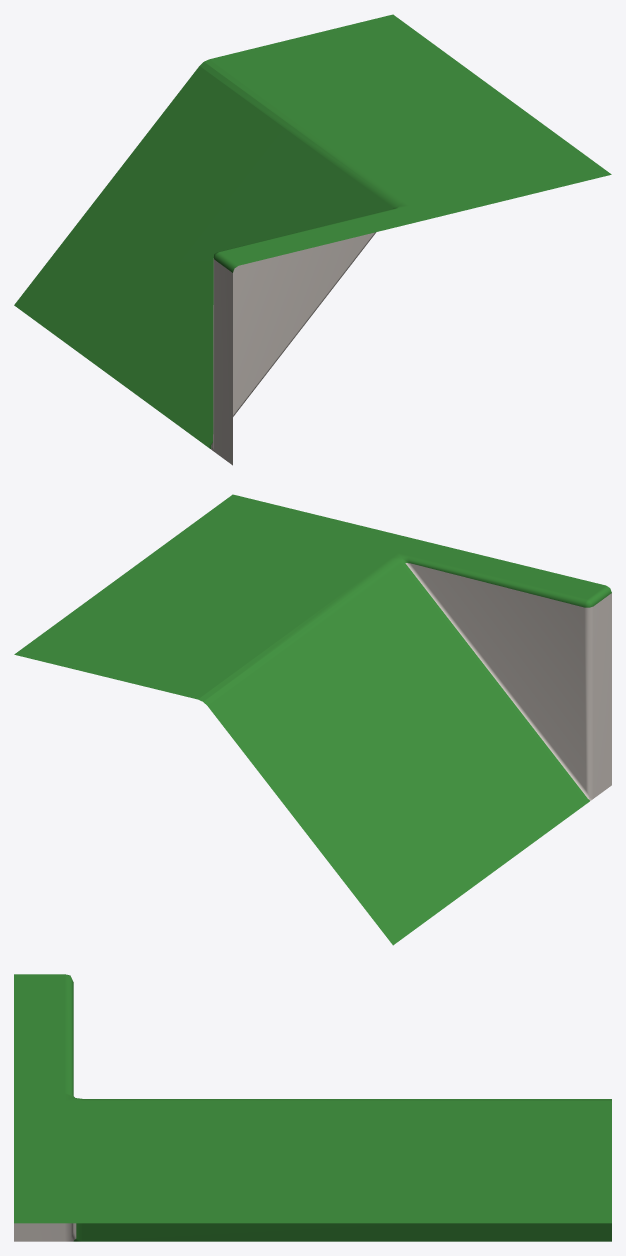
File: cliff_ramp_end_r.fbx
3 renders of one model, top to bottom at view 1: azimuth 30°, elevation 25°; view 2: azimuth 150°, elevation 25°; view 3: azimuth 270°, elevation 25°, orthographic. The views are drawn at different scales.
Parts seen in each view (by area): view 1: Cliff_Stair; view 2: Cliff_Stair; view 3: Cliff_Stair.
Boxes of the visible parts, box(x1,y1,x2,y2) form: Cliff_Stair: box(14, 14, 611, 465); Cliff_Stair: box(14, 494, 611, 945); Cliff_Stair: box(14, 974, 611, 1241).
Bounding box in the file's own units: 200 × 100 × 200.
